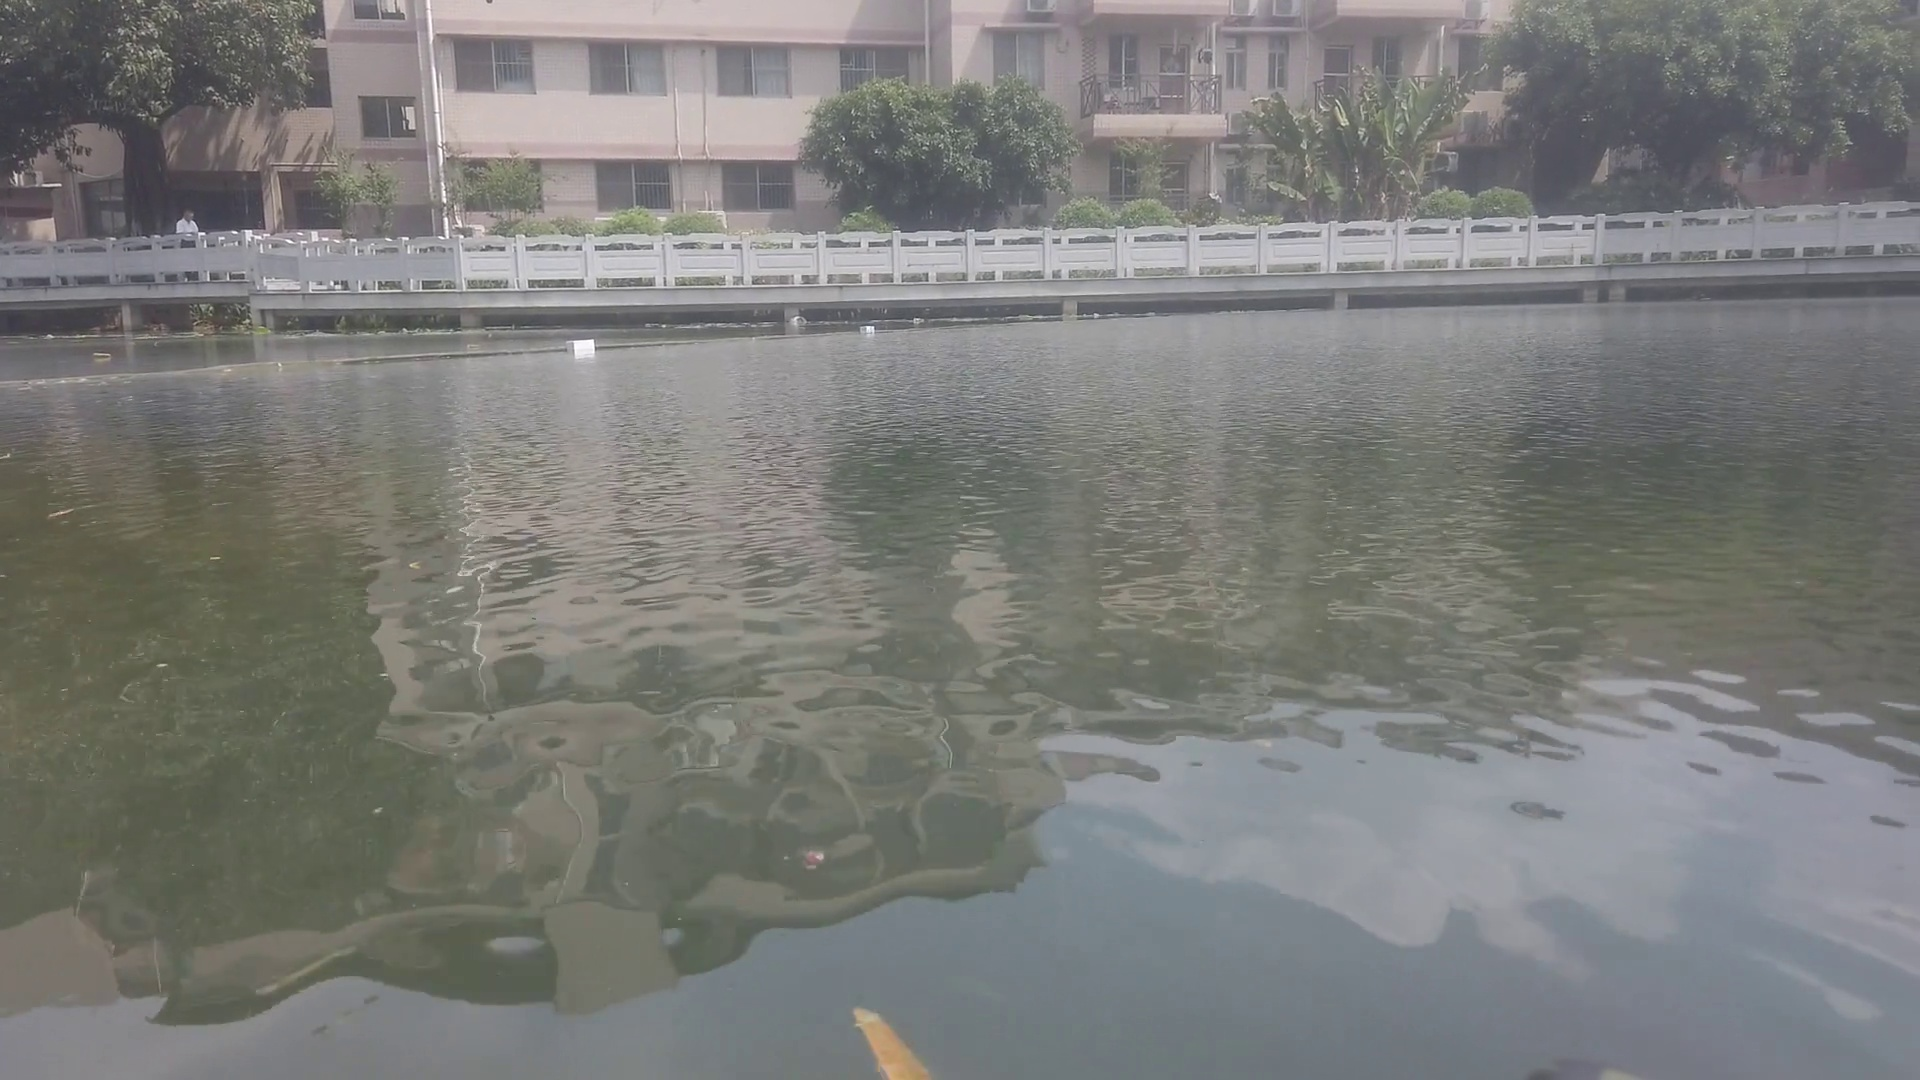carton: (568, 335, 596, 352), (856, 320, 878, 338)
